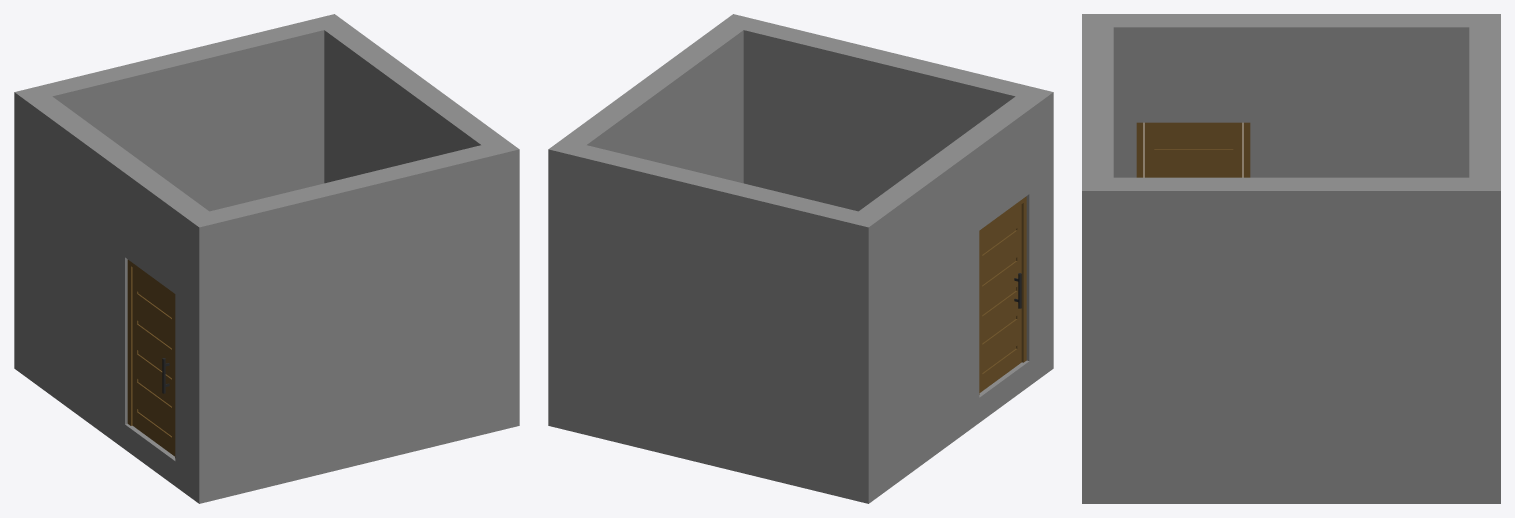
The model's file is MSH_Room_SingleDoor_Side.fbx.
3 views of the same model, side by side, from view 1: azimuth 30°, elevation 25°; view 2: azimuth 150°, elevation 25°; view 3: azimuth 270°, elevation 25° (orthographic). The views are drawn at different scales.
Parts seen in each view (by area): view 1: MSH_Room_SingleDoor_Side, MSH_Door_Single015, MSH_DoorFrame_Single015; view 2: MSH_Room_SingleDoor_Side, MSH_Door_Single015, MSH_DoorFrame_Single015; view 3: MSH_Room_SingleDoor_Side, MSH_Door_Single015, MSH_DoorFrame_Single015.
Boxes of the visible parts, box(x1,y1,x2,y2) form: MSH_Room_SingleDoor_Side: box(14, 14, 519, 503); MSH_Door_Single015: box(132, 268, 174, 456); MSH_DoorFrame_Single015: box(127, 259, 175, 457); MSH_Room_SingleDoor_Side: box(548, 14, 1053, 503); MSH_Door_Single015: box(979, 204, 1021, 392); MSH_DoorFrame_Single015: box(979, 196, 1026, 394); MSH_Room_SingleDoor_Side: box(1082, 14, 1500, 503); MSH_Door_Single015: box(1144, 122, 1242, 177); MSH_DoorFrame_Single015: box(1136, 122, 1250, 177).
Size of the model in its own units: 159 by 130 by 157.
